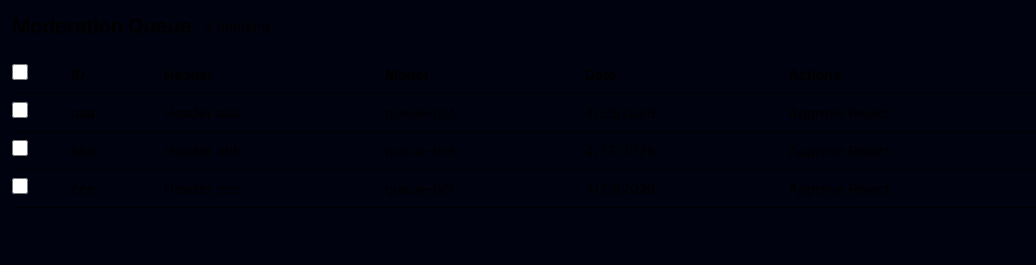
Test: AdminQueue — bulk select + bulk action flow › select-all toggle picks every visible row, second click clears them
Expected: the table with test id "admin-queue-table" is shown, [12,56,1035,208]
Click the checkbox with test id "admin-queue-select-all".
click(20, 72)  # box [12,64,28,80]
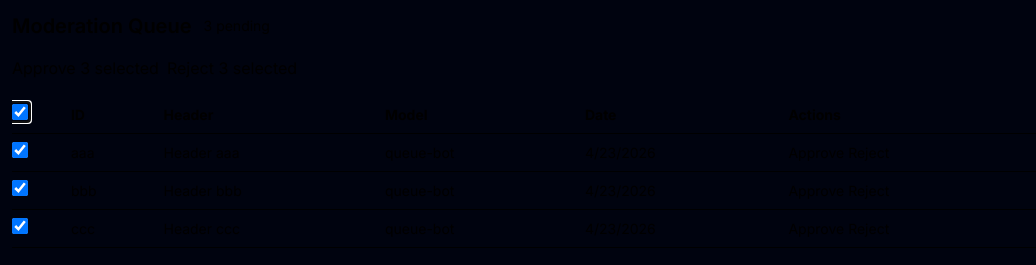
Click the checkbox with test id "admin-queue-select-all".
click(20, 112)  # box [12,104,28,120]
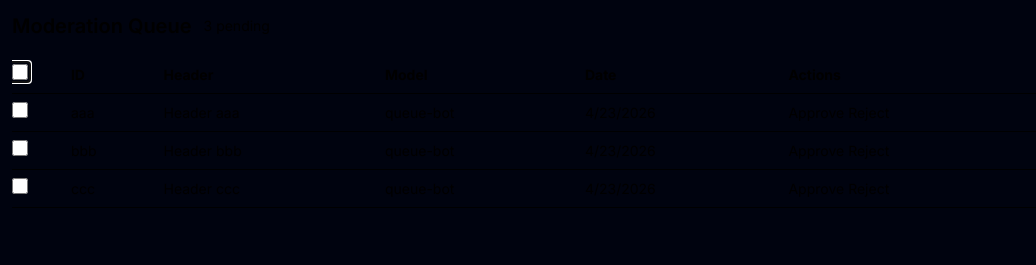
Expected: the button with test id "admin-queue-bulk-approve" is gone
